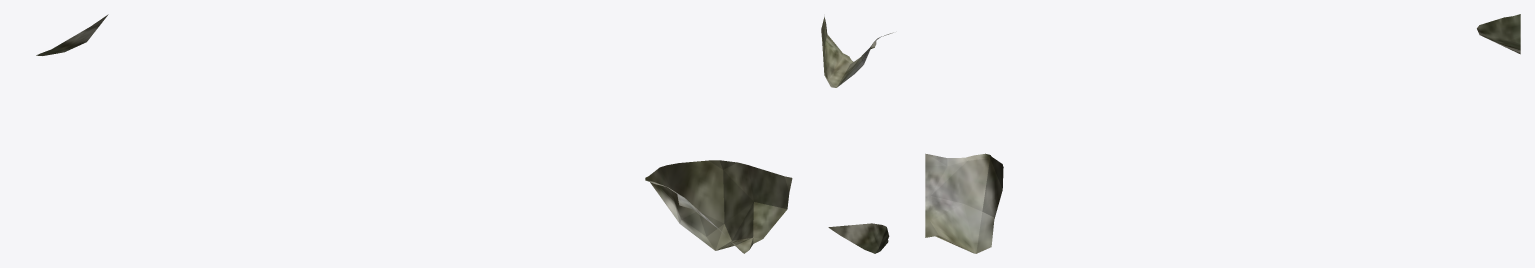
3 views of the same model, side by side, from view 1: azimuth 30°, elevation 25°; view 2: azimuth 150°, elevation 25°; view 3: azimuth 270°, elevation 25° (orthographic). The views are drawn at different scales.
Size of the model in its own units: 2.21 by 0.3963 by 2.95.
Materials: 1 (1 with a texture image).
